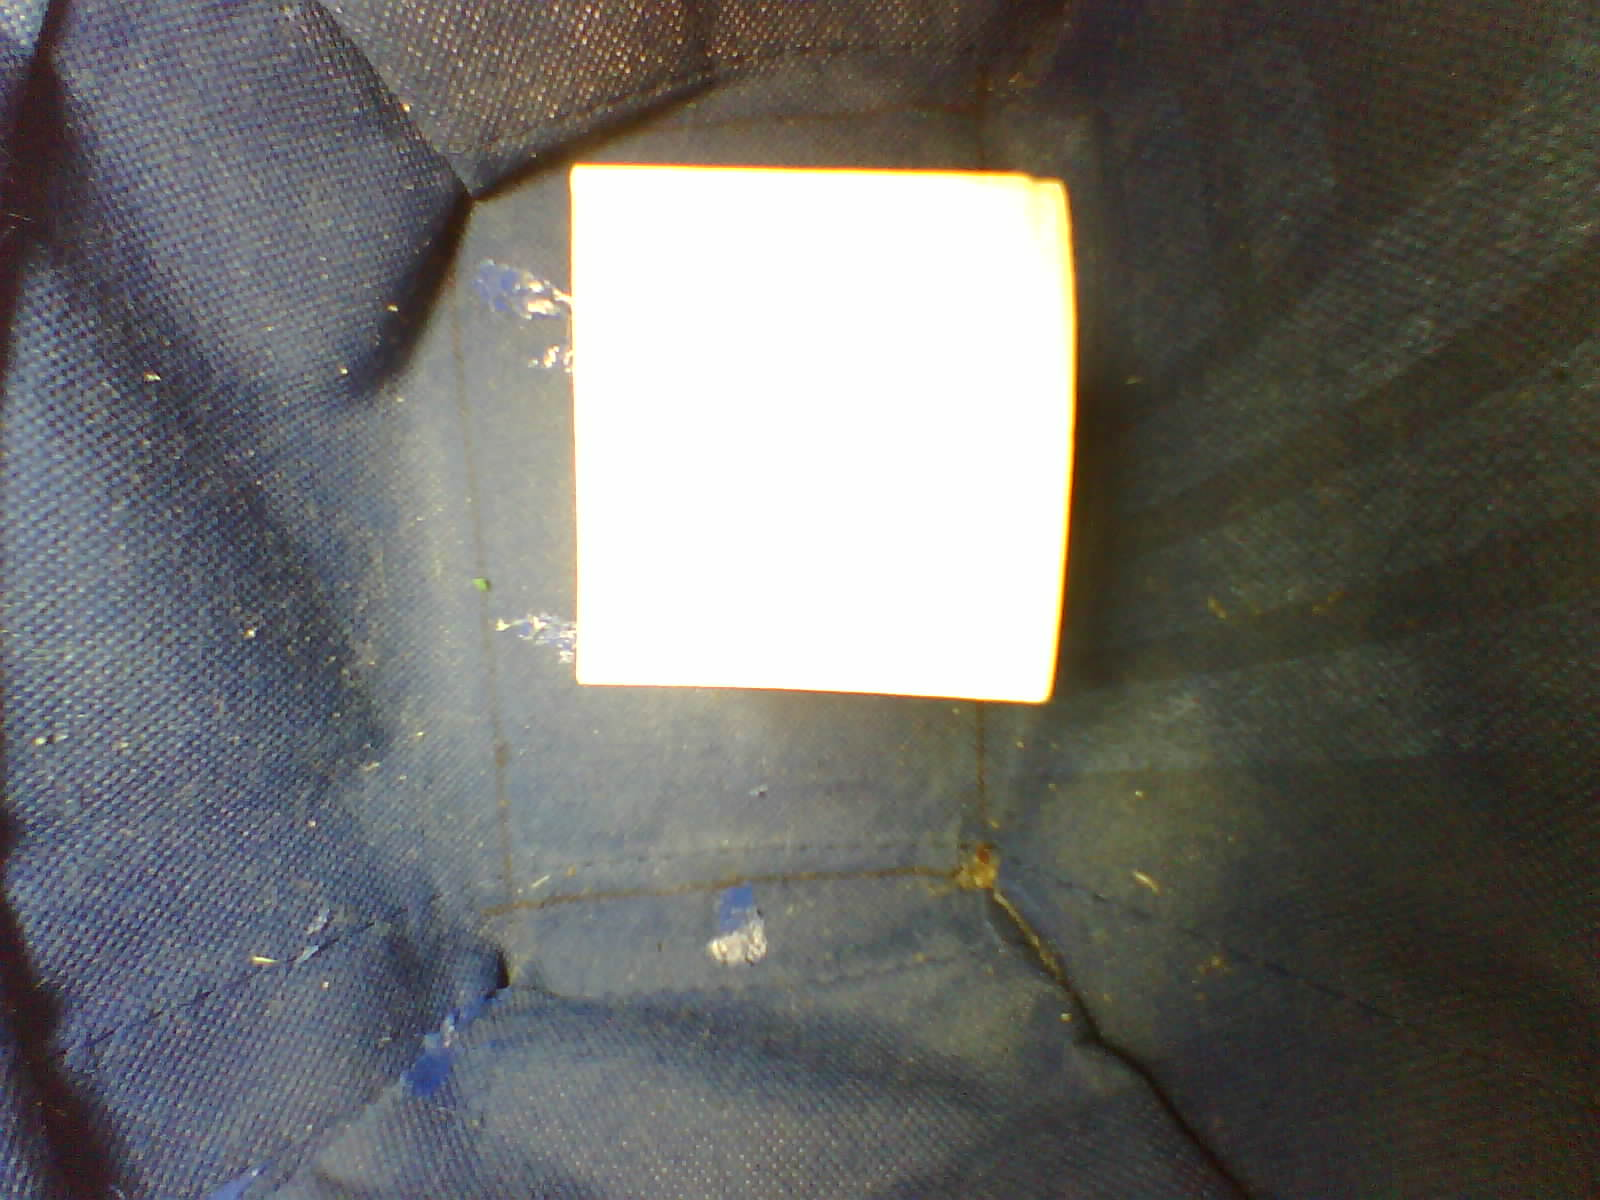cube-hard: (541, 145, 1107, 729)
